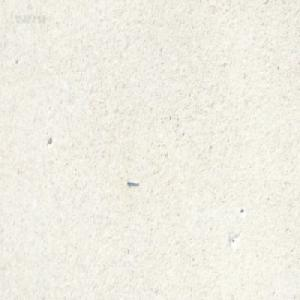Nail: (125, 177, 139, 186)
